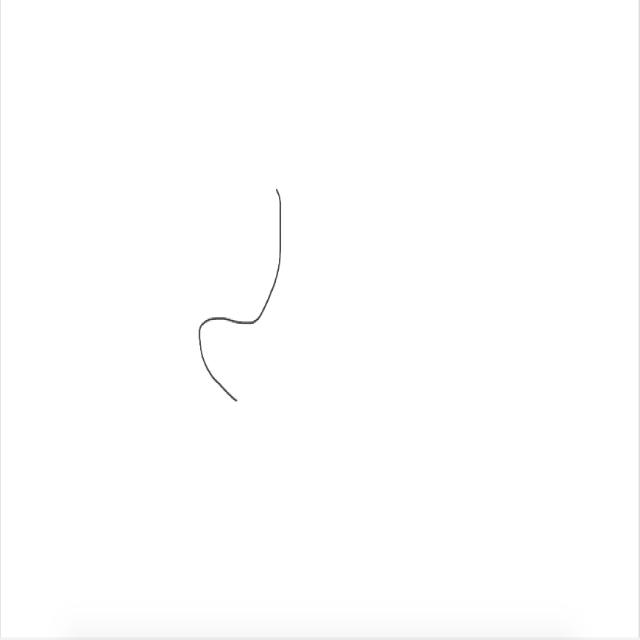hair: (197, 181, 285, 408)
